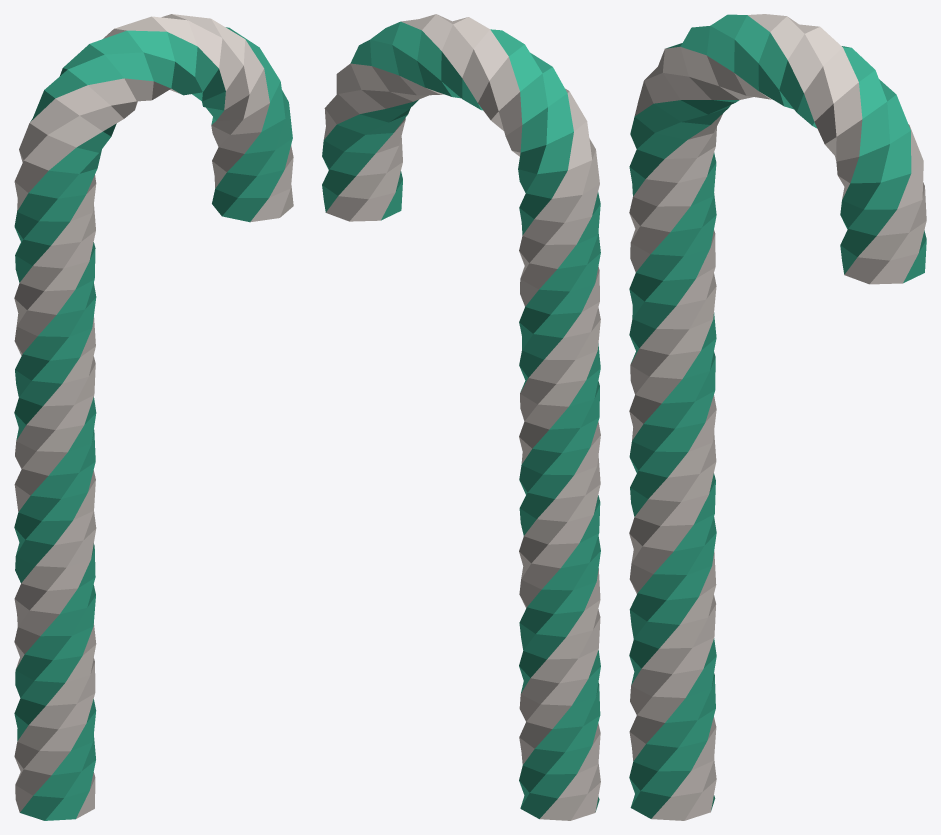
Rendered from CandyCane_Mint.glb.
The picture shows the model from 3 angles, left to right: view 1: azimuth 30°, elevation 25°; view 2: azimuth 150°, elevation 25°; view 3: azimuth 330°, elevation 25°; orthographic projection. The views are drawn at different scales.
Visible parts, largest first — view 1: CandyCane_Mint; view 2: CandyCane_Mint; view 3: CandyCane_Mint.
Part boxes in pixels (bbox=[...]): CandyCane_Mint: bbox=[14, 14, 293, 820]; CandyCane_Mint: bbox=[322, 14, 600, 820]; CandyCane_Mint: bbox=[629, 14, 926, 820].
Size of the model in its own units: 2.04 by 5.51 by 0.54.
